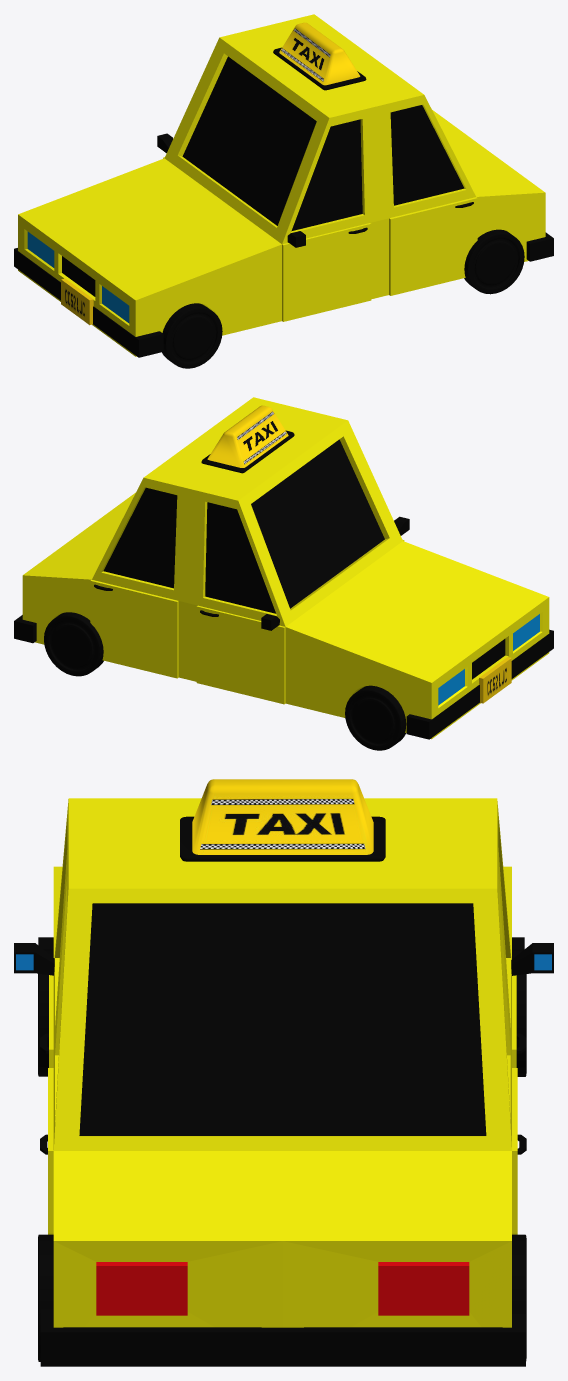
The model's file is TAXI 1.fbx.
The picture shows the model from 3 angles, top to bottom: view 1: azimuth 30°, elevation 25°; view 2: azimuth 150°, elevation 25°; view 3: azimuth 270°, elevation 25°; orthographic projection. The views are drawn at different scales.
Parts seen in each view (by area): view 1: car body, tire front left, tire back left; view 2: car body, tire front right, tire back right; view 3: car body, tire back left, tire back right, tire front left, tire front right.
Part boxes in pixels (x1,y1,x2,y2): car body: (14, 14, 553, 357); tire front left: (162, 303, 222, 368); tire back left: (464, 229, 524, 294); car body: (14, 397, 553, 739); tire front right: (345, 685, 406, 750); tire back right: (44, 612, 103, 676); car body: (14, 779, 553, 1366); tire back left: (38, 1234, 53, 1361); tire back right: (512, 1234, 526, 1360); tire front left: (38, 949, 53, 1076); tire front right: (512, 949, 526, 1076).
Bounding box in the file's own units: 825 × 451 × 472.
9 materials, 2 textured.
